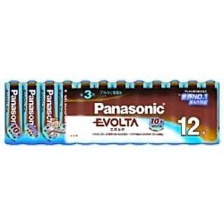battery: (162, 77, 188, 148), (126, 77, 151, 146), (4, 77, 29, 146), (56, 78, 81, 146), (144, 77, 168, 146), (20, 78, 44, 146), (199, 78, 222, 148), (182, 79, 205, 149), (110, 80, 133, 146), (91, 78, 113, 147), (38, 79, 61, 145), (76, 77, 95, 147)
